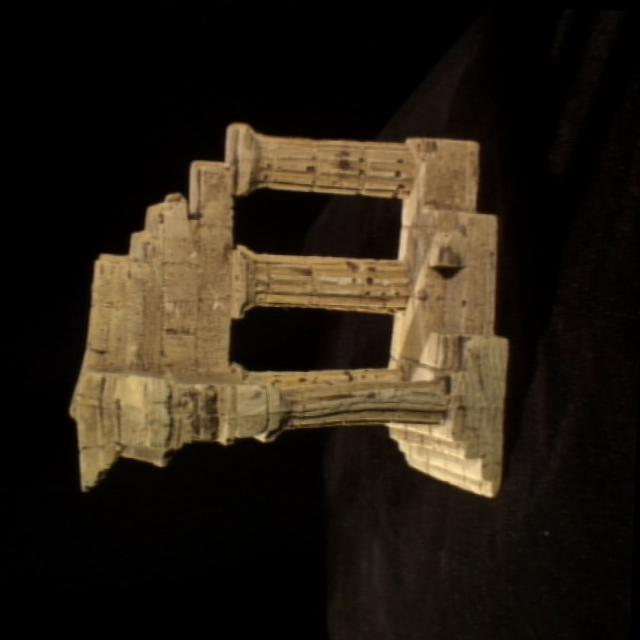Instance-Segmentation: (71, 125, 508, 497)
